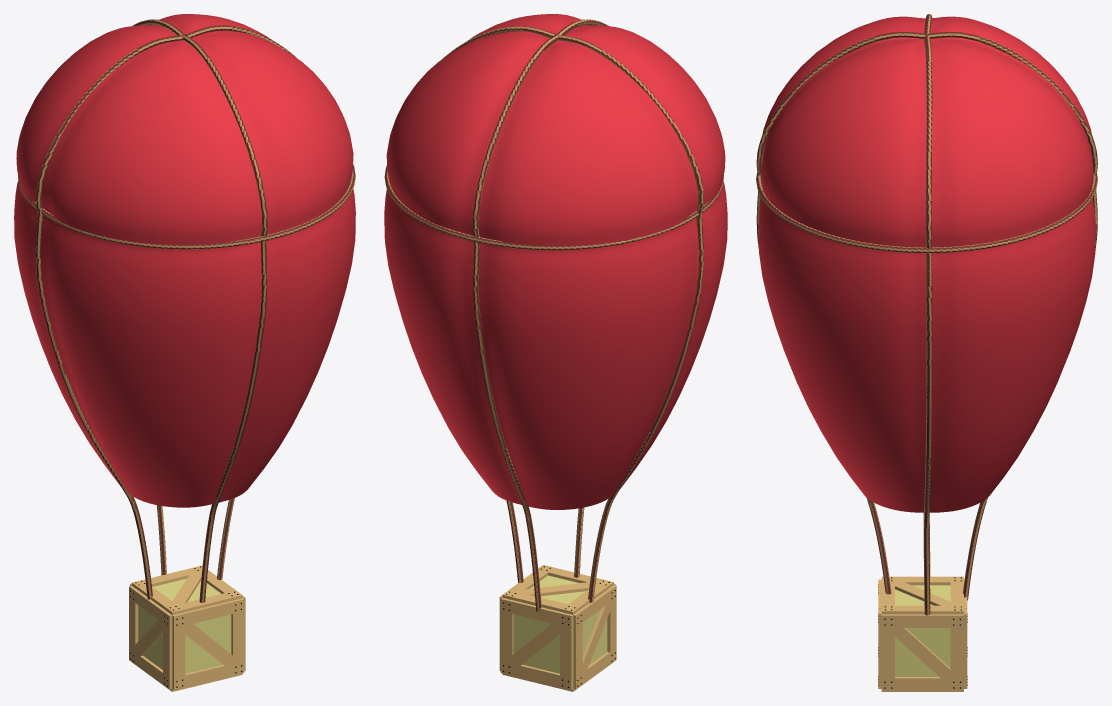
The model's file is package.fbx.
3 renders of one model, left to right at view 1: azimuth 30°, elevation 25°; view 2: azimuth 150°, elevation 25°; view 3: azimuth 270°, elevation 25°, orthographic.
Parts seen in each view (by area): view 1: Sphere, Cylinder.011, Cylinder.009, Cylinder.007, Cube.010, Cylinder.010, Cylinder.008, Cylinder.012; view 2: Sphere, Cylinder.011, Cylinder.009, Cylinder.007, Cylinder.010, Cube.010, Cylinder.008, Cylinder.012; view 3: Sphere, Cylinder.010, Cylinder.009, Cylinder.011, Cylinder.008, Cube.010, Cylinder.012, Cylinder.007.
Part boxes in pixels (box(x1,y1,x2,y2)): Sphere: box(14, 14, 355, 507); Cylinder.011: box(35, 25, 296, 599); Cylinder.009: box(132, 19, 267, 602); Cylinder.007: box(130, 584, 244, 689); Cube.010: box(138, 578, 231, 673); Cylinder.010: box(129, 585, 245, 689); Cylinder.008: box(131, 565, 242, 691); Cylinder.012: box(18, 164, 355, 249); Sphere: box(384, 14, 727, 509); Cylinder.011: box(442, 26, 703, 602); Cylinder.009: box(473, 19, 608, 612); Cylinder.007: box(500, 583, 615, 689); Cylinder.010: box(499, 585, 616, 689); Cube.010: box(513, 575, 607, 688); Cylinder.008: box(502, 565, 613, 691); Cylinder.012: box(384, 166, 723, 250); Sphere: box(758, 16, 1095, 512); Cylinder.010: box(881, 614, 963, 690); Cylinder.009: box(756, 32, 1097, 600); Cylinder.011: box(923, 14, 932, 615); Cylinder.008: box(881, 576, 963, 691); Cube.010: box(895, 585, 950, 676); Cylinder.012: box(756, 172, 1097, 253); Cylinder.007: box(878, 579, 967, 688).
Size of the model in its own units: 8.41 by 17.23 by 8.32.
